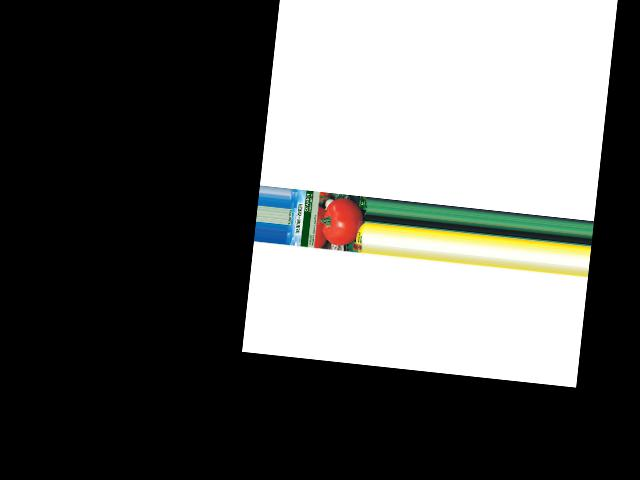tomato: (321, 196, 365, 247)
